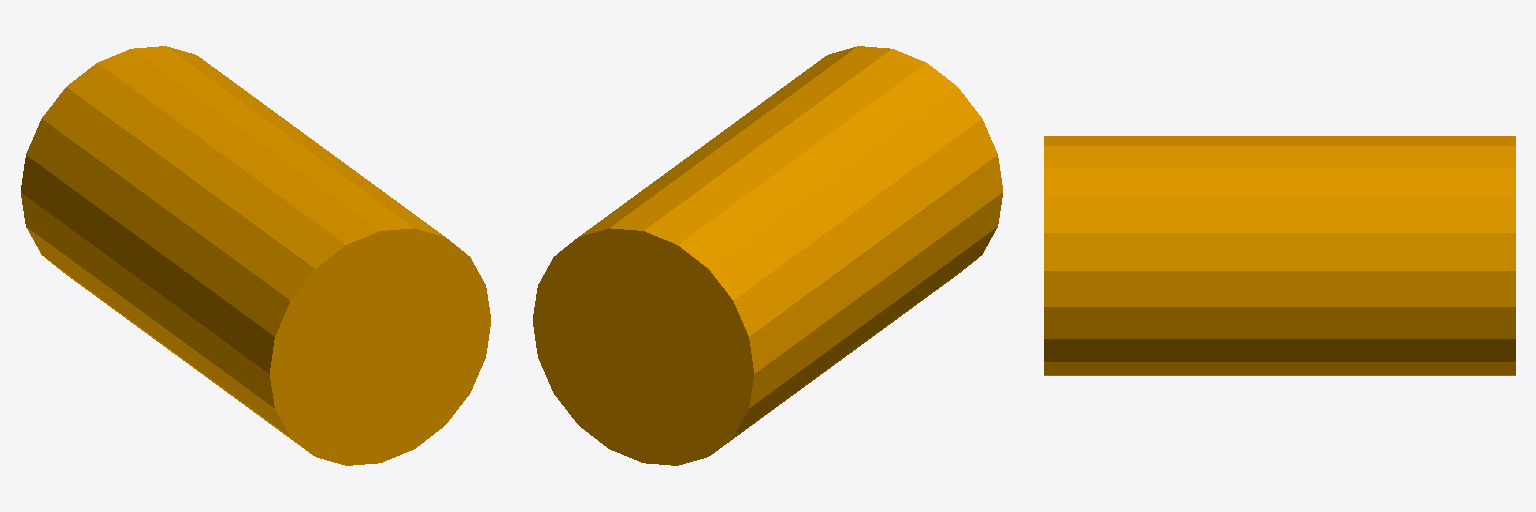
URDF robot description (room73b2-georgia-emerald-mountain):
<?xml version="1.0"?>
<robot name="room73b2-georgia-emerald-mountain"
       xmlns:xi="http://www.w3.org/2001/XInclude"
       >
  <gazebo>
    <static>false</static>
  </gazebo>
  <link name="nil_link">
    <visual>
      <origin xyz="0 0 0" rpy="0 -0 0"/>
      <geometry>
        <mesh filename="model://room73b2-georgia-emerald-mountain/meshes/nil_link_mesh.dae" scale="1 1 1" />
      </geometry>
    </visual>
    <collision>
      <origin xyz="0 0 0" rpy="0 -0 0"/>
      <geometry>
        <mesh filename="model://room73b2-georgia-emerald-mountain/meshes/nil_link_mesh.dae" scale="1 1 1" />
      </geometry>
    </collision>
    <inertial>
      <mass value="0.3" />
      <origin xyz="0 0 0" rpy="0 -0 0"/>
      <inertia ixx="1e-03" ixy="0" ixz="0" iyy="1e-03" iyz="0" izz="1e-03"/>
    </inertial>
  </link>
  <gazebo reference="nil_link">
    <mu1>0.9</mu1>
    <mu2>0.9</mu2>
  </gazebo>
</robot>

--- Facts derived from the render (not from the file) ---
3 views of the same robot in one strip: view 1: azimuth 30°, elevation 25°; view 2: azimuth 150°, elevation 25°; view 3: azimuth 270°, elevation 25° (orthographic).
Robot: room73b2-georgia-emerald-mountain — 1 links, 0 joints (none); root link nil_link; default pose: every joint at zero.
Visible links, largest first — view 1: nil_link; view 2: nil_link; view 3: nil_link.
Link boxes in pixels (x1,y1,x2,y2): nil_link: (21, 46, 490, 465); nil_link: (533, 46, 1002, 465); nil_link: (1044, 136, 1515, 375).
Size in the robot's own frame: 0.053 by 0.103 by 0.053 metres.
1 mesh visuals loaded from 1 distinct referenced files (1 Collada DAE).
